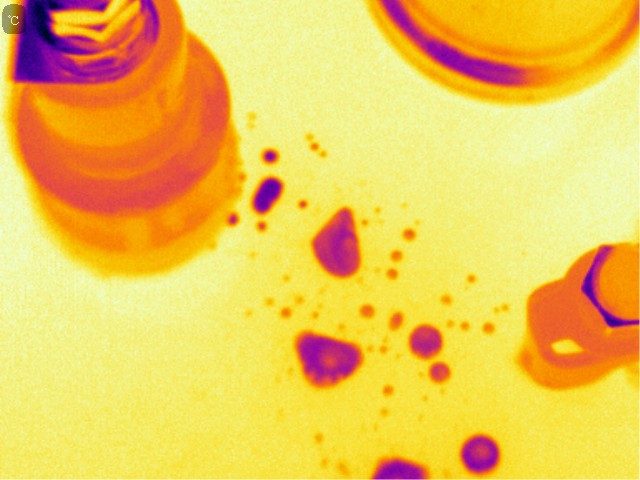Water: (295, 333, 362, 391), (311, 212, 361, 278), (443, 291, 494, 336), (460, 433, 501, 478), (368, 458, 430, 480), (391, 226, 413, 287), (251, 175, 285, 214), (408, 321, 441, 358), (306, 132, 327, 157), (333, 454, 354, 479), (427, 363, 451, 384), (258, 146, 280, 165), (388, 308, 403, 334), (309, 427, 329, 446), (353, 303, 378, 317), (463, 266, 476, 284), (319, 451, 331, 468), (228, 212, 242, 225), (381, 384, 395, 397), (255, 220, 270, 229), (297, 199, 310, 209), (281, 307, 291, 318)
